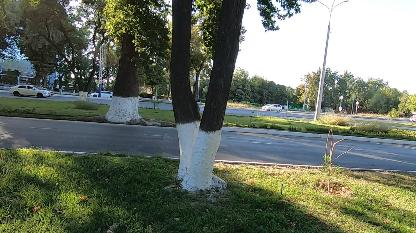car: (7, 83, 53, 100), (265, 104, 283, 112)
tree: (168, 0, 247, 198), (103, 0, 164, 130)
